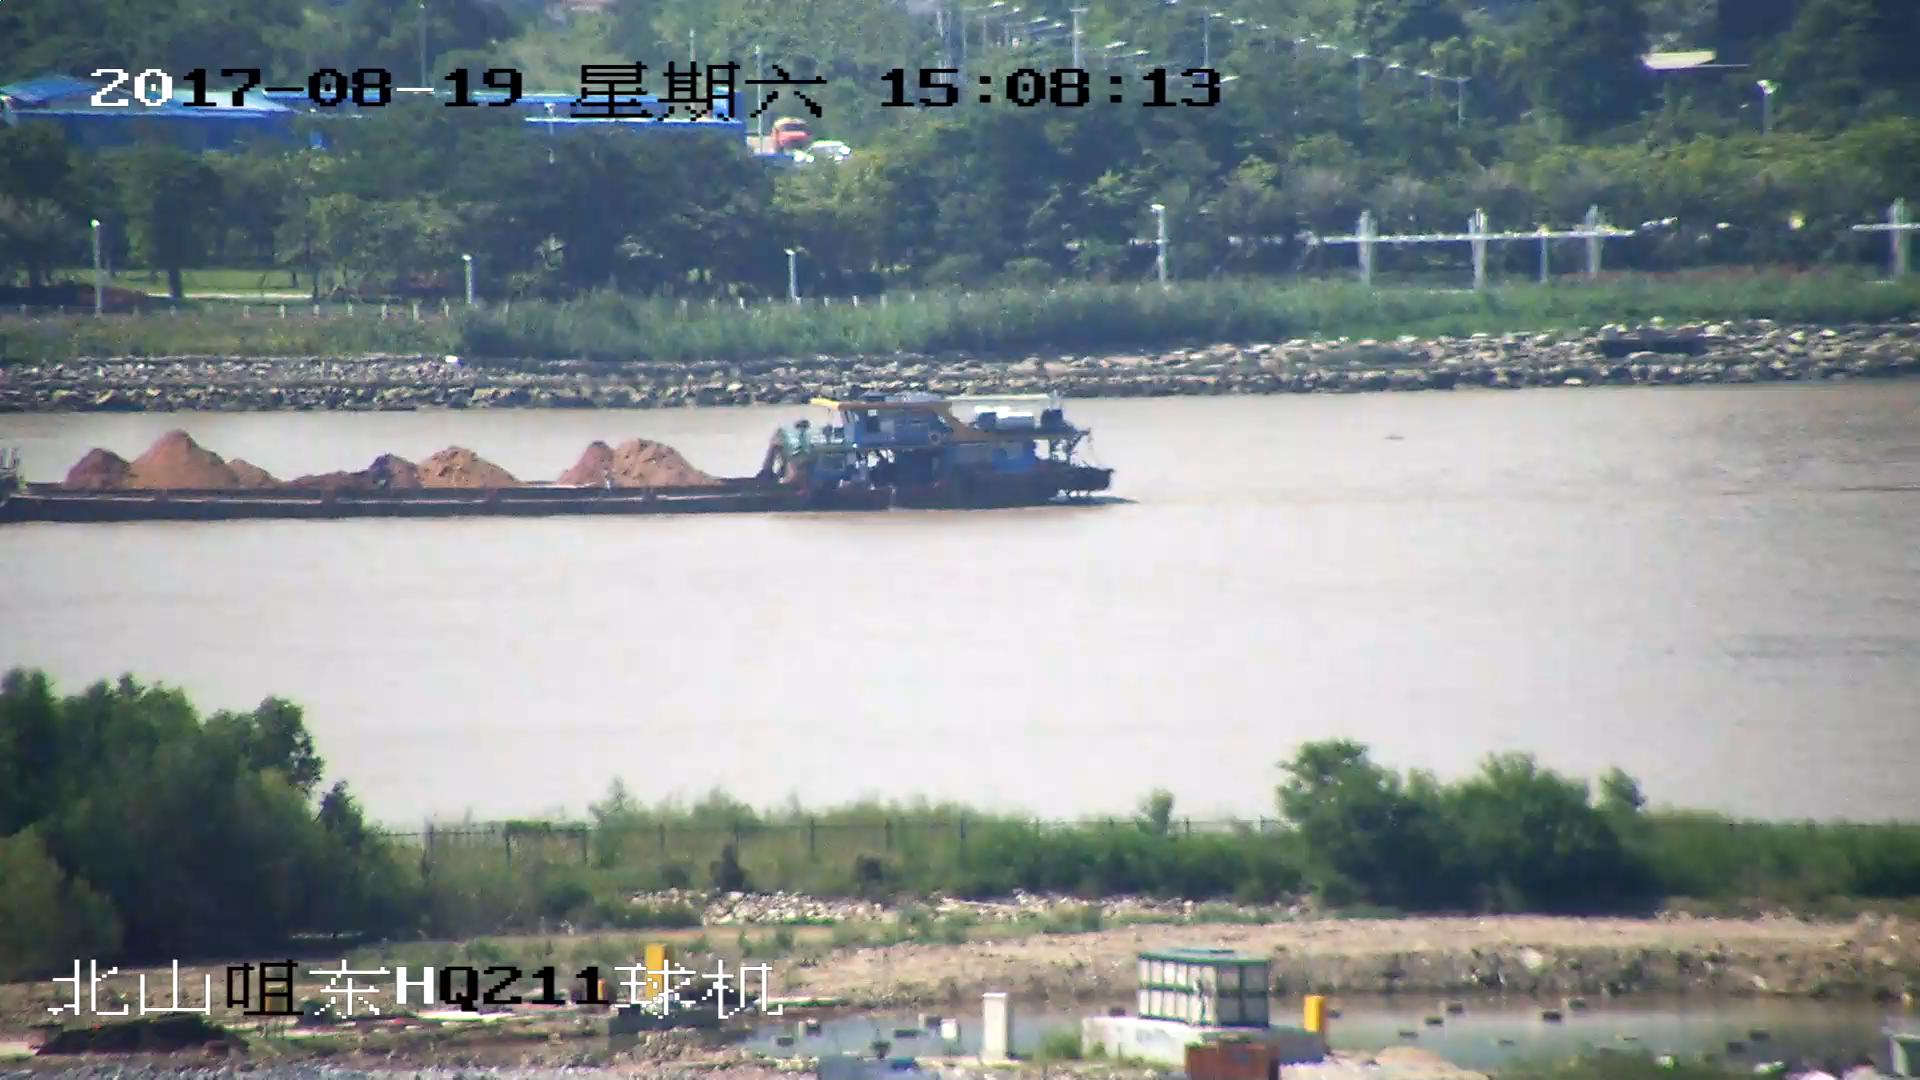ore carrier: (1, 387, 1114, 521)
